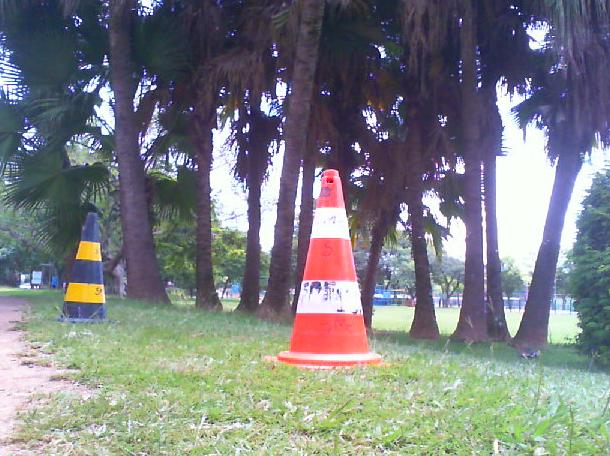0 cone: (265, 169, 393, 370), (53, 213, 110, 325)
